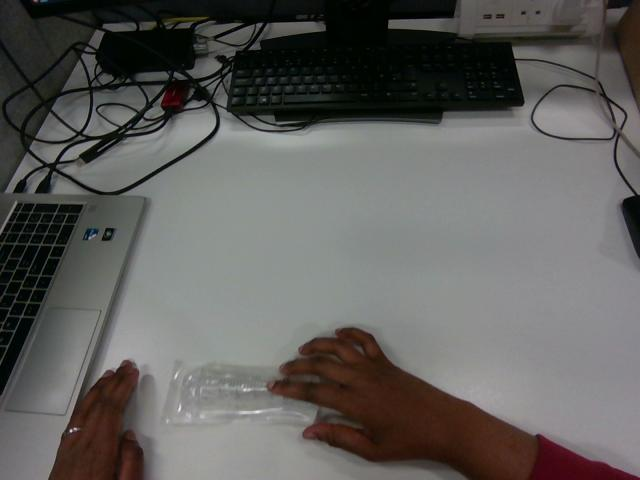syringe: (163, 361, 317, 424)
